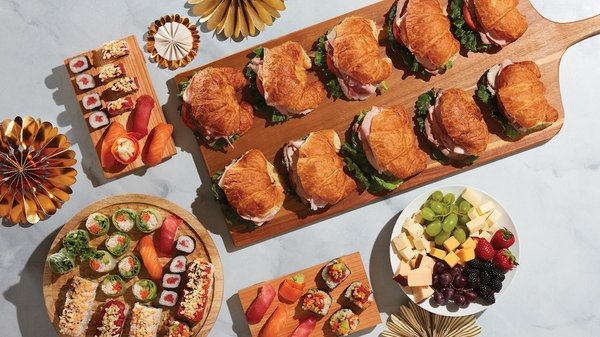pasta: (187, 1, 286, 41)
soup: (342, 104, 430, 192), (276, 128, 358, 211), (475, 59, 559, 139), (413, 87, 490, 167), (218, 149, 285, 225)
sushi: (41, 193, 219, 334), (379, 187, 521, 328)
